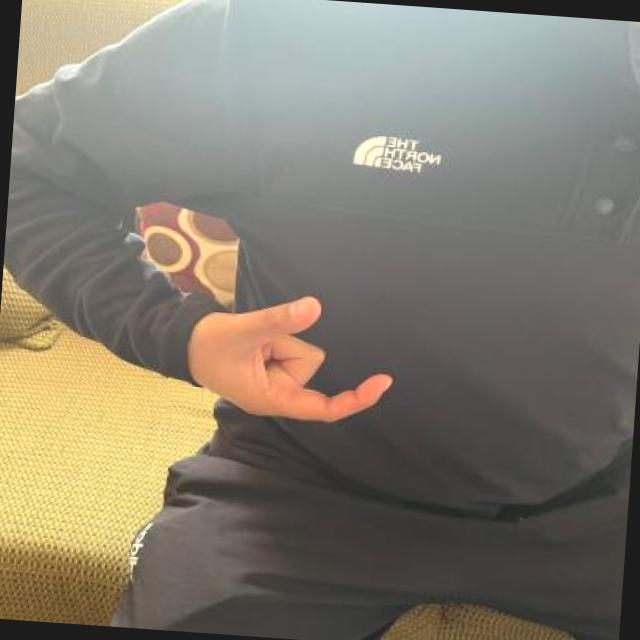G: (165, 274, 402, 434)
